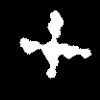single_crochet: (20, 11, 90, 77)
